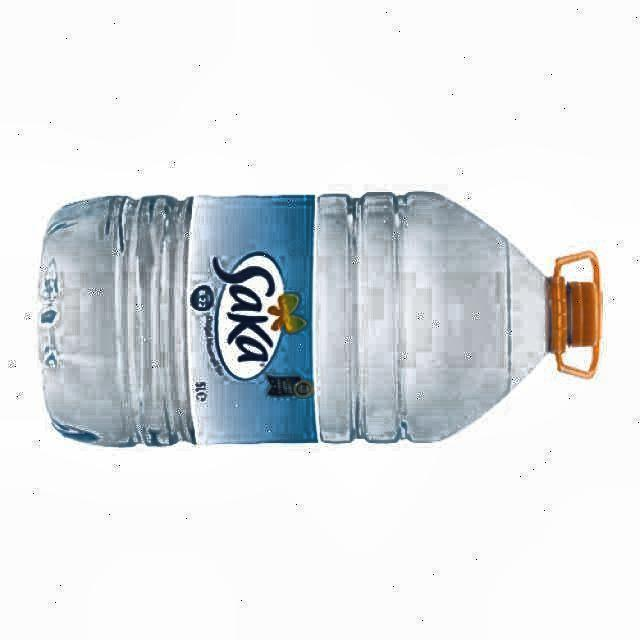plastic: (37, 192, 601, 445)
